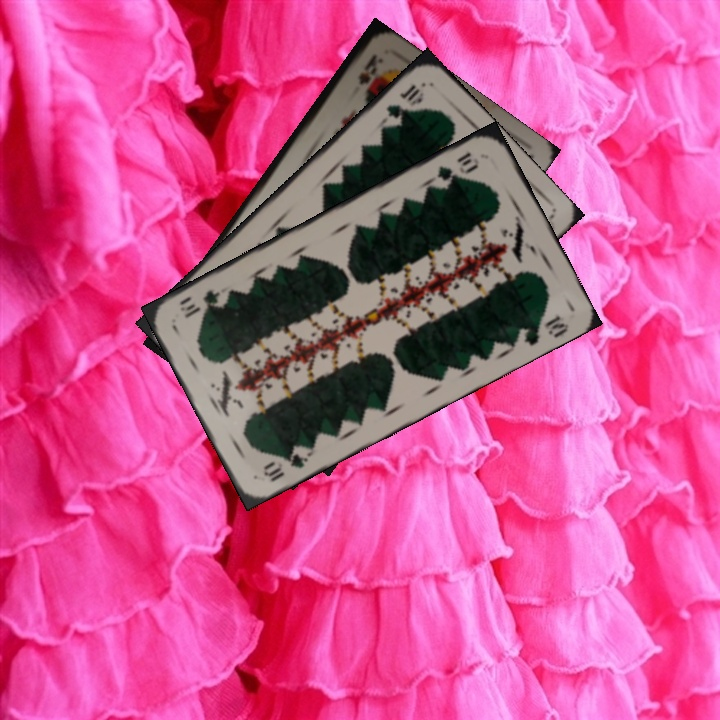G10: (259, 441, 313, 485), (382, 80, 427, 121), (433, 148, 482, 184)
SK: (354, 50, 386, 88)
